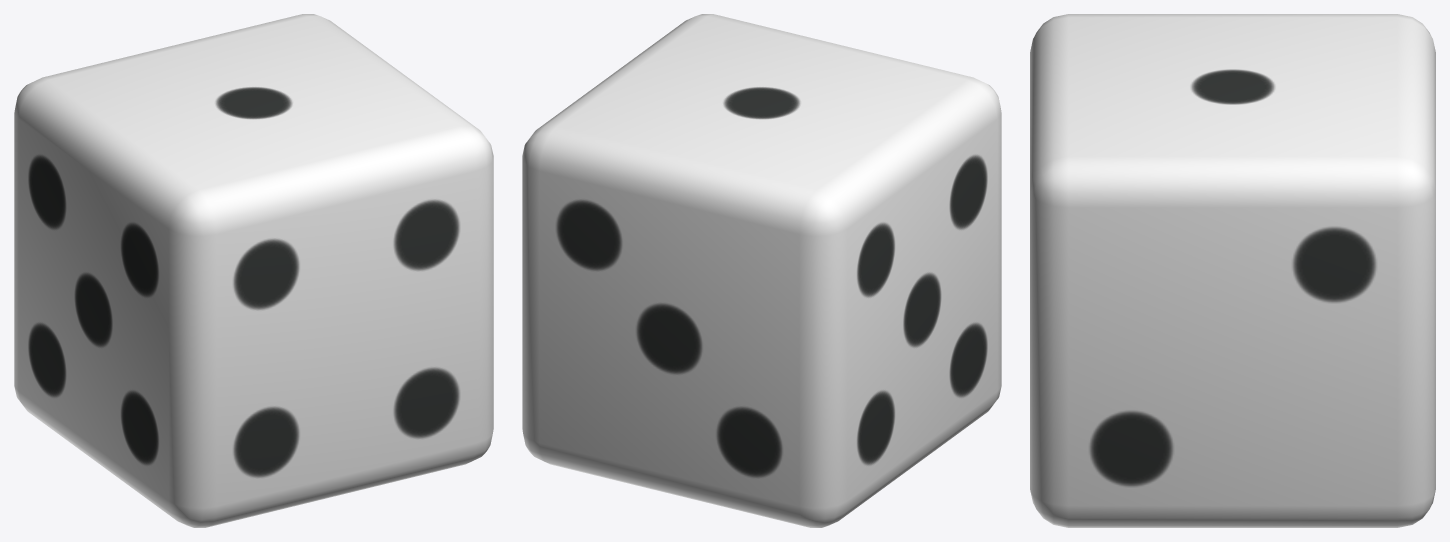
Rendered from dice.glb.
3 views of the same model, side by side, from view 1: azimuth 30°, elevation 25°; view 2: azimuth 150°, elevation 25°; view 3: azimuth 270°, elevation 25° (orthographic). The views are drawn at different scales.
Parts seen in each view (by area): view 1: Dice; view 2: Dice; view 3: Dice.
Part boxes in pixels (x1,y1,x2,y2): Dice: [14, 14, 493, 527]; Dice: [522, 14, 1001, 527]; Dice: [1030, 14, 1435, 527].
Bounding box in the file's own units: 2 × 2 × 2.
Materials: 1 (1 with a texture image).
